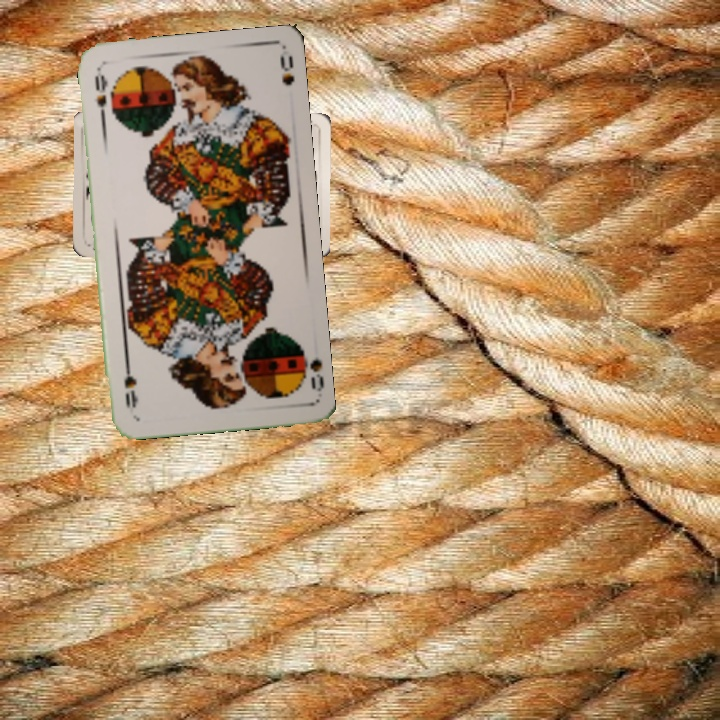SO: (295, 340, 326, 394), (90, 66, 110, 125)
